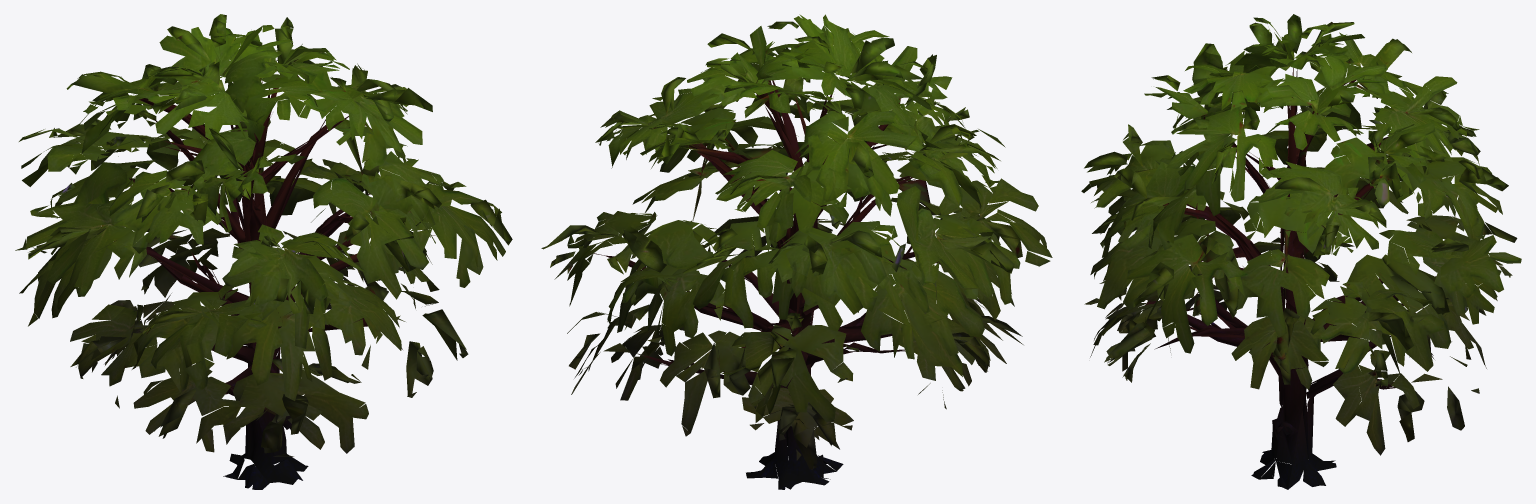
File: vegetation.round-tree-01.lod1.glb
The picture shows the model from 3 angles, left to right: view 1: azimuth 30°, elevation 25°; view 2: azimuth 150°, elevation 25°; view 3: azimuth 270°, elevation 25°; orthographic projection. The views are drawn at different scales.
Parts seen in each view (by area): view 1: vegetation.round-tree-01_LOD1_00; view 2: vegetation.round-tree-01_LOD1_00; view 3: vegetation.round-tree-01_LOD1_00.
Part boxes in pixels (<box>): vegetation.round-tree-01_LOD1_00: <box>15,14,512,489</box>; vegetation.round-tree-01_LOD1_00: <box>541,14,1052,489</box>; vegetation.round-tree-01_LOD1_00: <box>1081,14,1521,489</box>.
Size of the model in its own units: 5.97 by 5.98 by 5.53.
Materials: 1 (1 with a texture image).
